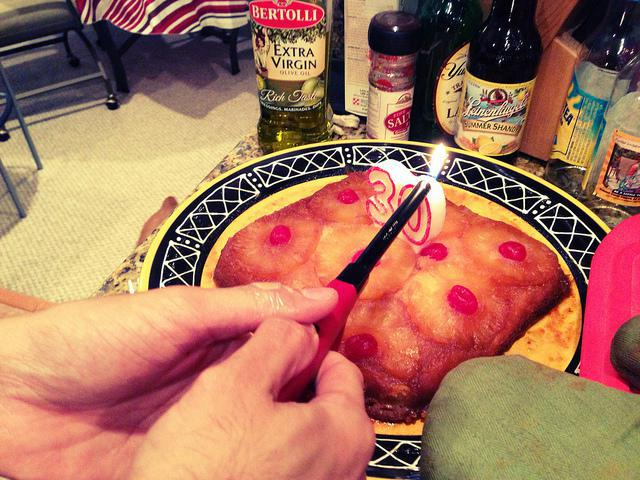hand: (4, 288, 379, 479)
